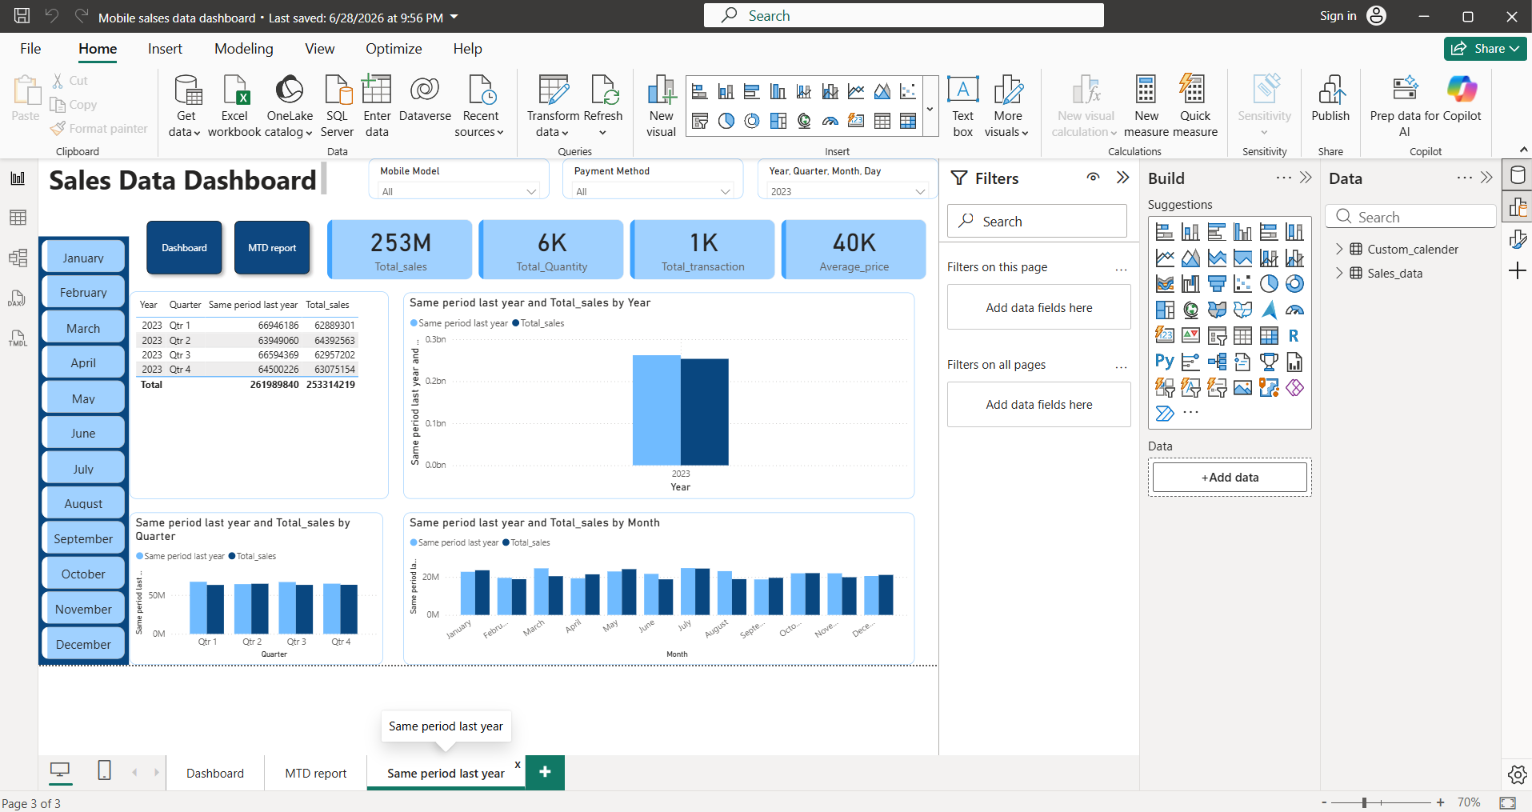

The dashboard page shown, as its layout file describes it:
{"tool":"powerbi","page":{"name":"Same period last year","canvas":[1280,720],"ordinal":2},"visuals":[{"type":"textbox","box":[9.6,0,404.8,57.6],"z":0},{"type":"cardVisual","fields":{"Data":["Sales_data.Total_sales","Sales_data.Total_Quantity","Sales_data.Total_transaction","Sales_data.Average_price"]},"box":[393.8,70,886.5,120.8],"z":1000},{"type":"slicer","fields":{"Values":["Sales_data.Mobile Model"]},"box":[469.3,0,258,57.6],"z":2000},{"type":"slicer","fields":{"Values":["Custom_calender.Date.Variation.Date Hierarchy.Year","Custom_calender.Date.Variation.Date Hierarchy.Quarter","Custom_calender.Date.Variation.Date Hierarchy.Month","Custom_calender.Date.Variation.Date Hierarchy.Day"]},"box":[1022.3,0,258,57.6],"z":3000},{"type":"slicer","fields":{"Values":["Sales_data.Payment Method"]},"box":[745.1,0,258,57.6],"z":4000},{"type":"advancedSlicerVisual","fields":{"Values":["Custom_calender.Date.Variation.Date Hierarchy.Month"]},"box":[0,110.7,129,609.3],"z":5000},{"type":"tableEx","fields":{"Values":["Custom_calender.Date.Variation.Date Hierarchy.Year","Custom_calender.Date.Variation.Date Hierarchy.Quarter","Custom_calender.Same period last year","Sales_data.Total_sales"]},"box":[129,189.4,369.1,295],"z":6000},{"type":"clusteredColumnChart","fields":{"Category":["Custom_calender.Date.Variation.Date Hierarchy.Year","Custom_calender.Date.Variation.Date Hierarchy.Quarter"],"Y":["Custom_calender.Same period last year","Sales_data.Total_sales"]},"box":[518.7,190.7,727.3,293.7],"z":7000},{"type":"clusteredColumnChart","fields":{"Y":["Custom_calender.Same period last year","Sales_data.Total_sales"],"Category":["Custom_calender.Date.Variation.Date Hierarchy.Year","Custom_calender.Date.Variation.Date Hierarchy.Quarter","Custom_calender.Date.Variation.Date Hierarchy.Month","Custom_calender.Date.Variation.Date Hierarchy.Day"]},"box":[518.7,503.6,727.3,216.8],"z":8000},{"type":"clusteredColumnChart","fields":{"Category":["Custom_calender.Date.Variation.Date Hierarchy.Year","Custom_calender.Date.Variation.Date Hierarchy.Quarter"],"Y":["Custom_calender.Same period last year","Sales_data.Total_sales"]},"box":[129,503.6,360.9,216.8],"z":9000},{"type":"pageNavigator","box":[145.5,79.6,248.4,94.7],"z":10000}]}

Visuals, with their boxes on the page's 1280x720 design canvas (x1, y1, x2, y2). These are canvas units, not pixel positions in the 1532x812 screenshot, which may show the page scaled, cropped or inside an application window:
textbox: pyautogui.locateOnScreen(10, 0, 414, 58)
cardVisual - Sales_data.Total_sales x Sales_data.Total_Quantity: pyautogui.locateOnScreen(394, 70, 1280, 191)
slicer - Sales_data.Mobile Model: pyautogui.locateOnScreen(469, 0, 727, 58)
slicer - Custom_calender.Date.Variation.Date Hierarchy.Year x Custom_calender.Date.Variation.Date Hierarchy.Quarter: pyautogui.locateOnScreen(1022, 0, 1280, 58)
slicer - Sales_data.Payment Method: pyautogui.locateOnScreen(745, 0, 1003, 58)
advancedSlicerVisual - Custom_calender.Date.Variation.Date Hierarchy.Month: pyautogui.locateOnScreen(0, 111, 129, 720)
tableEx - Custom_calender.Date.Variation.Date Hierarchy.Year x Custom_calender.Date.Variation.Date Hierarchy.Quarter: pyautogui.locateOnScreen(129, 189, 498, 484)
clusteredColumnChart - Custom_calender.Date.Variation.Date Hierarchy.Year x Custom_calender.Date.Variation.Date Hierarchy.Quarter: pyautogui.locateOnScreen(519, 191, 1246, 484)
clusteredColumnChart - Custom_calender.Same period last year x Sales_data.Total_sales: pyautogui.locateOnScreen(519, 504, 1246, 720)
clusteredColumnChart - Custom_calender.Date.Variation.Date Hierarchy.Year x Custom_calender.Date.Variation.Date Hierarchy.Quarter: pyautogui.locateOnScreen(129, 504, 490, 720)
pageNavigator: pyautogui.locateOnScreen(146, 80, 394, 174)
